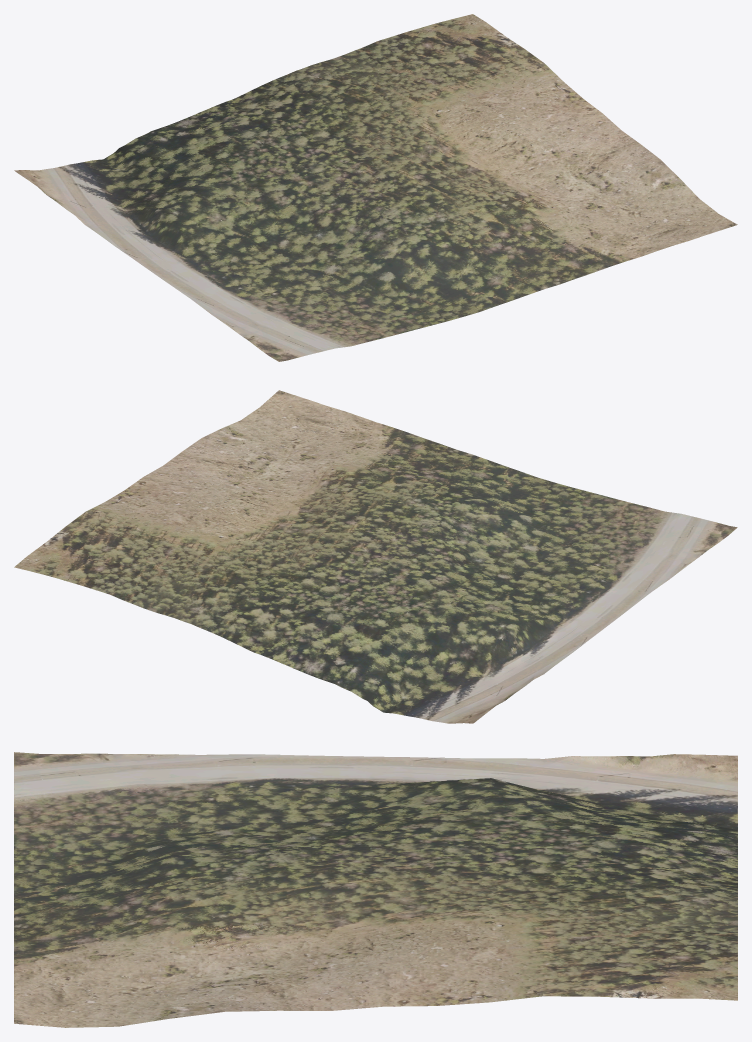
File: CM_Terrain_24493326_6814879.fbx
The picture shows the model from 3 angles, top to bottom: view 1: azimuth 30°, elevation 25°; view 2: azimuth 150°, elevation 25°; view 3: azimuth 270°, elevation 25°; orthographic projection. The views are drawn at different scales.
Parts seen in each view (by area): view 1: CM_Terrain_24493326_6814879_LOD0; view 2: CM_Terrain_24493326_6814879_LOD0; view 3: CM_Terrain_24493326_6814879_LOD0.
Part boxes in pixels (x1,y1,x2,y2): CM_Terrain_24493326_6814879_LOD0: [14, 14, 737, 361]; CM_Terrain_24493326_6814879_LOD0: [14, 390, 737, 723]; CM_Terrain_24493326_6814879_LOD0: [14, 752, 737, 1027].
Size of what is drawn, in the model's own units: 205 by 25.02 by 205.
